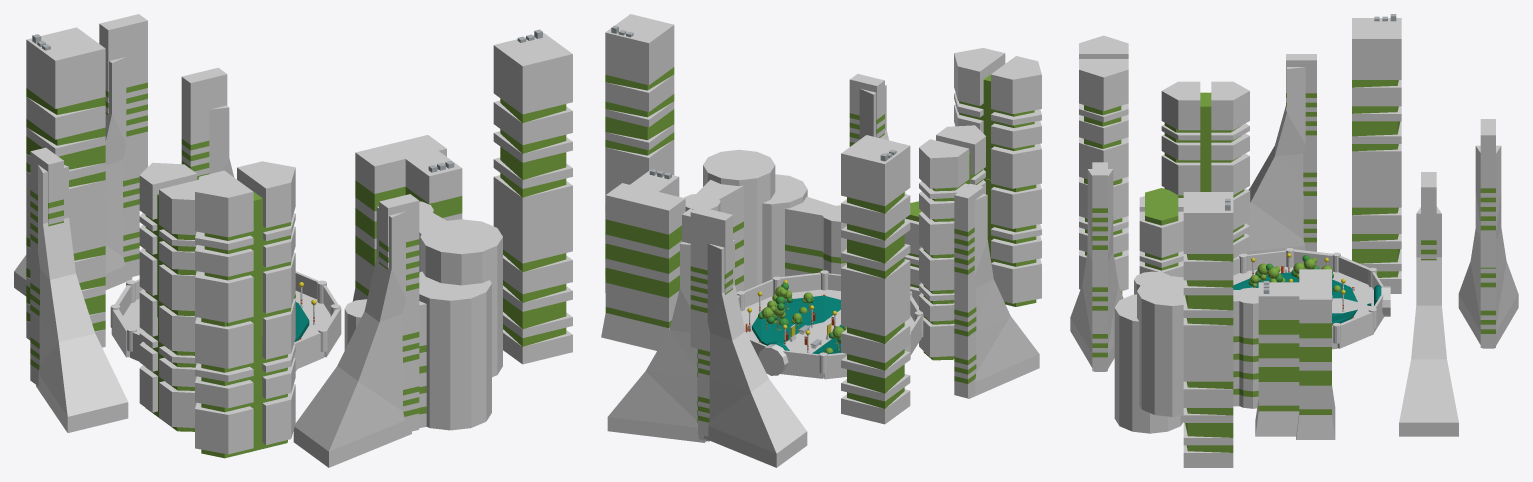
3 renders of one model, left to right at view 1: azimuth 30°, elevation 25°; view 2: azimuth 150°, elevation 25°; view 3: azimuth 270°, elevation 25°, orthographic. The views are drawn at different scales.
Parts seen in each view (by area): view 1: node_MeshObject1824643072-PolyPaper10, node_MeshObject-754086912-PolyPaper21, node_MeshObject970898432-PolyPaper12, node_MeshObject680484864-PolyPaper21, node_MeshObject-1326166016-PolyPaper21, node_MeshObject-1898245120-PolyPaper21; view 2: node_MeshObject680484864-PolyPaper21, node_MeshObject1824643072-PolyPaper10, node_MeshObject-754086912-PolyPaper21, node_MeshObject970898432-PolyPaper12, node_MeshObject-1898245120-PolyPaper21, node_MeshObject-1326166016-PolyPaper21, node_MeshObject1252563968-PolyPaper14; view 3: node_MeshObject1824643072-PolyPaper10, node_MeshObject680484864-PolyPaper21, node_MeshObject-754086912-PolyPaper21, node_MeshObject970898432-PolyPaper12, node_MeshObject-1898245120-PolyPaper21, node_MeshObject-1326166016-PolyPaper21.
Part boxes in pixels (bbox=[...]): node_MeshObject1824643072-PolyPaper10: bbox=[30, 29, 572, 432]; node_MeshObject-754086912-PolyPaper21: bbox=[26, 27, 462, 467]; node_MeshObject970898432-PolyPaper12: bbox=[195, 161, 419, 458]; node_MeshObject680484864-PolyPaper21: bbox=[14, 14, 502, 431]; node_MeshObject-1326166016-PolyPaper21: bbox=[344, 271, 491, 430]; node_MeshObject-1898245120-PolyPaper21: bbox=[26, 189, 341, 368]; node_MeshObject680484864-PolyPaper21: bbox=[684, 125, 985, 467]; node_MeshObject1824643072-PolyPaper10: bbox=[605, 14, 1039, 442]; node_MeshObject-754086912-PolyPaper21: bbox=[601, 85, 910, 424]; node_MeshObject970898432-PolyPaper12: bbox=[778, 48, 1041, 329]; node_MeshObject-1898245120-PolyPaper21: bbox=[697, 272, 923, 441]; node_MeshObject-1326166016-PolyPaper21: bbox=[735, 174, 846, 283]; node_MeshObject1252563968-PolyPaper14: bbox=[747, 280, 836, 344]; node_MeshObject1824643072-PolyPaper10: bbox=[1139, 54, 1458, 467]; node_MeshObject680484864-PolyPaper21: bbox=[1137, 81, 1518, 416]; node_MeshObject-754086912-PolyPaper21: bbox=[1070, 14, 1401, 439]; node_MeshObject970898432-PolyPaper12: bbox=[1079, 35, 1128, 371]; node_MeshObject-1898245120-PolyPaper21: bbox=[1233, 166, 1401, 349]; node_MeshObject-1326166016-PolyPaper21: bbox=[1114, 271, 1258, 433].
Bounding box in the file's own units: 1.74 × 1.22 × 1.62.
